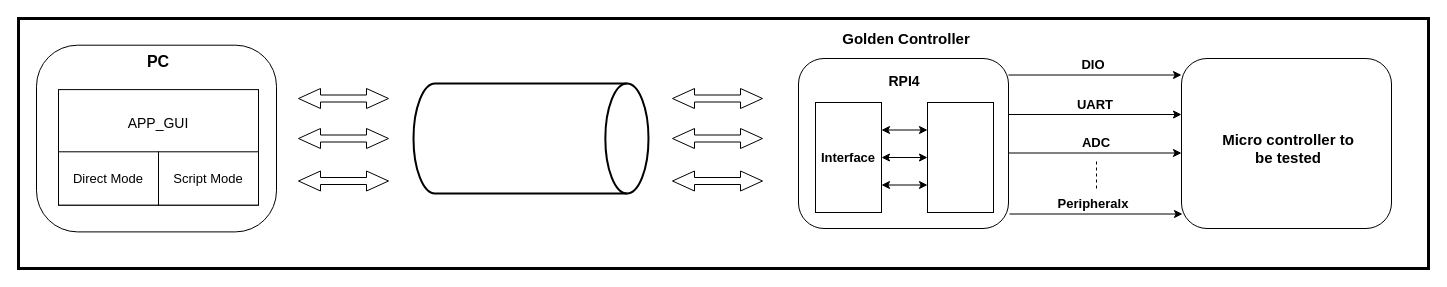
This 1447x287 diagram has some shape labels left out. The shapes that lost their labels are listed below. From the top down, each one's centre as x and y in pixels, then its label:
At (x=530, y=138): "Ethernet Connection UDP Transport Layer".
At (x=960, y=157): "HAL".
